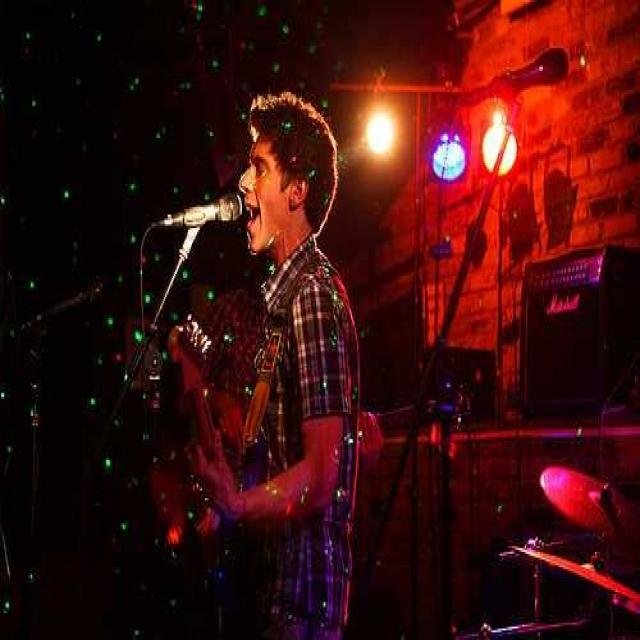microphone: (160, 192, 244, 232)
